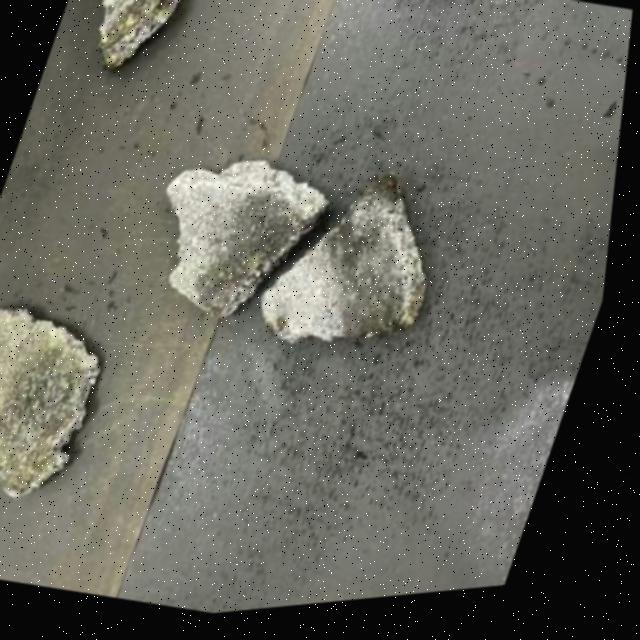Road Debris: (313, 196, 435, 355), (193, 186, 320, 333), (0, 338, 101, 504), (84, 0, 188, 75)
